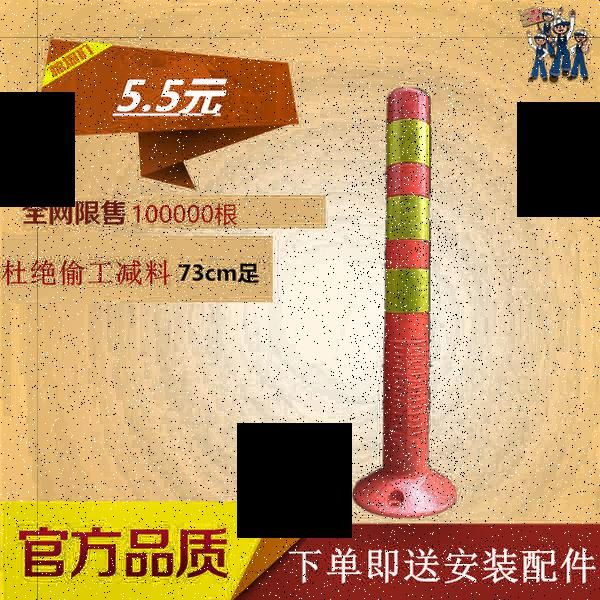bench: (348, 82, 466, 520)
